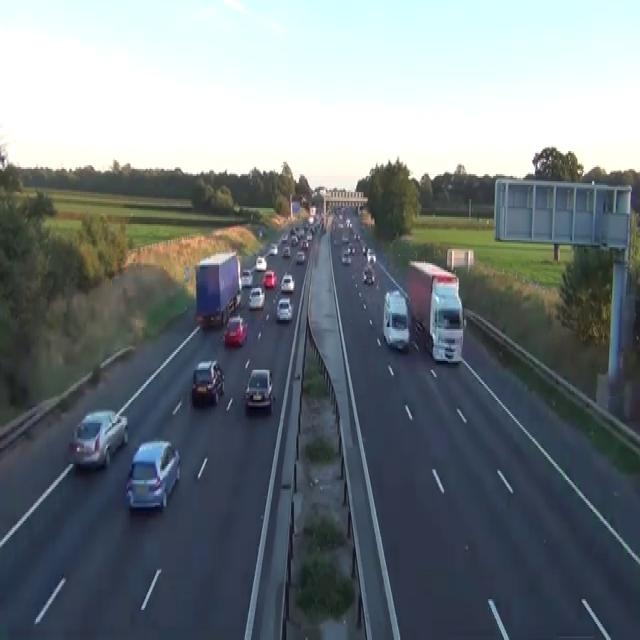Car: (125, 439, 180, 512), (68, 409, 128, 469), (191, 359, 224, 405), (244, 368, 274, 411), (223, 316, 248, 346), (248, 286, 265, 310), (276, 297, 292, 322), (280, 272, 294, 292), (262, 270, 277, 288), (240, 268, 253, 286), (229, 292, 241, 311), (363, 266, 374, 284), (366, 247, 376, 263), (255, 256, 266, 270), (341, 251, 351, 265), (296, 251, 305, 263), (269, 242, 278, 254), (346, 242, 355, 254), (282, 245, 290, 258), (300, 238, 308, 249), (290, 235, 298, 245), (341, 234, 349, 242), (237, 276, 241, 292), (281, 233, 288, 242), (345, 217, 351, 227), (362, 242, 367, 254), (300, 196, 307, 204), (308, 215, 314, 224), (320, 224, 326, 233), (306, 231, 312, 240), (258, 228, 262, 238), (333, 237, 337, 246), (355, 233, 360, 240)
Truck: (406, 260, 465, 364), (194, 251, 241, 329), (382, 288, 409, 350)
